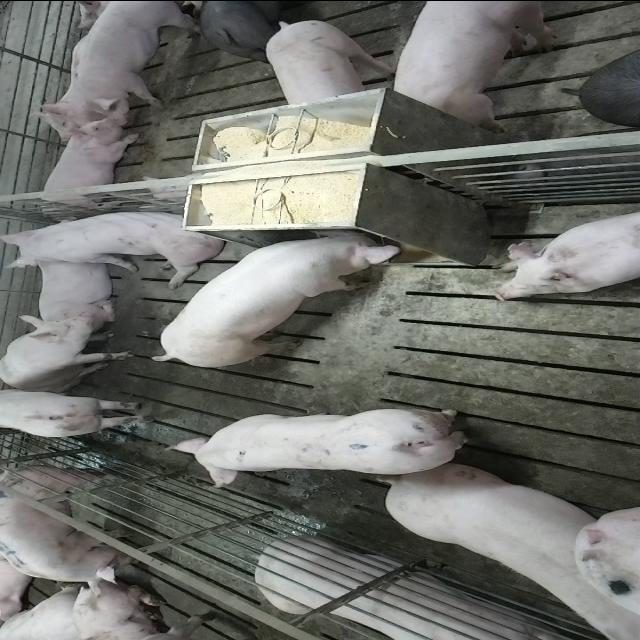Feeding: (148, 221, 404, 363)
Sitting: (4, 204, 230, 282), (1, 309, 137, 392)
Standing: (162, 406, 476, 486), (387, 1, 565, 126), (0, 461, 132, 586), (266, 16, 400, 106), (2, 385, 156, 439), (192, 0, 304, 56)
Sternal_lying: (251, 538, 575, 640), (492, 206, 640, 302), (31, 115, 140, 215), (30, 254, 121, 324)
